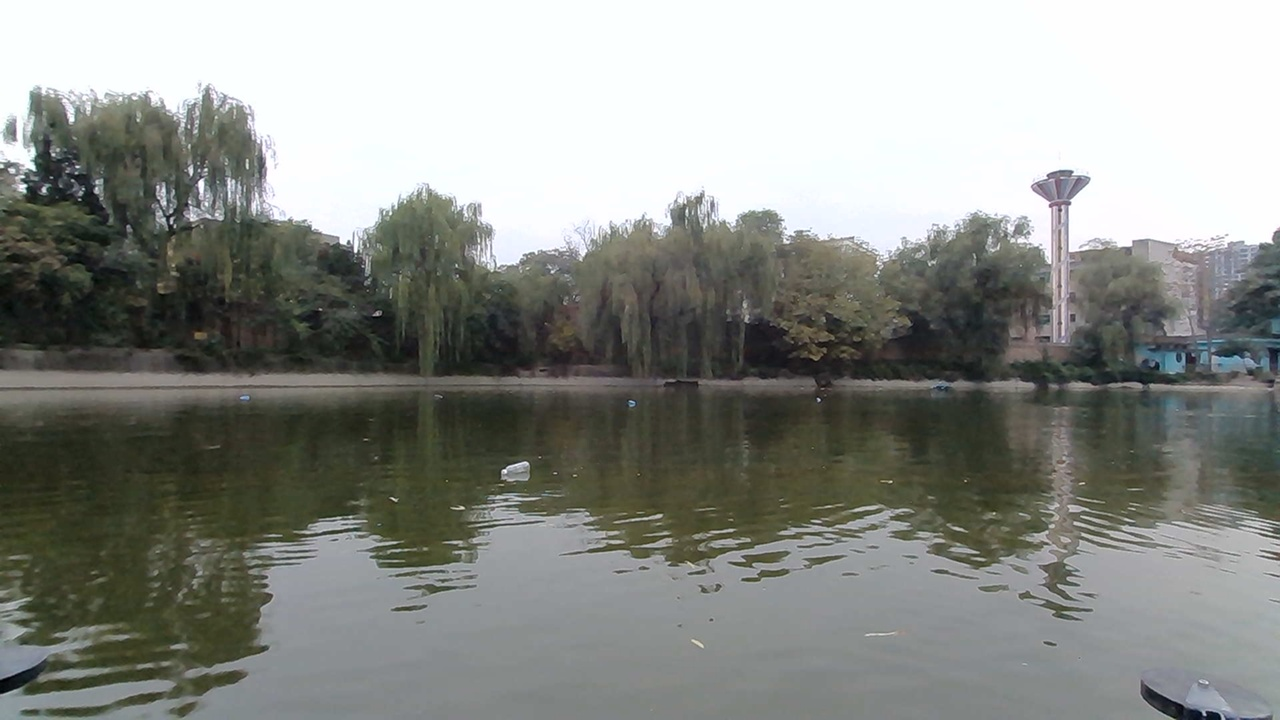bottle: (492, 455, 551, 484), (616, 397, 647, 415)
